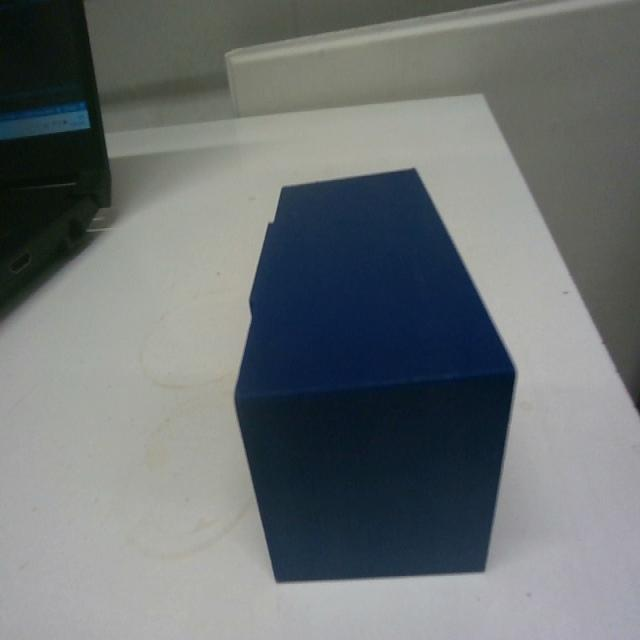Blue Cuboid: (231, 162, 519, 582)
